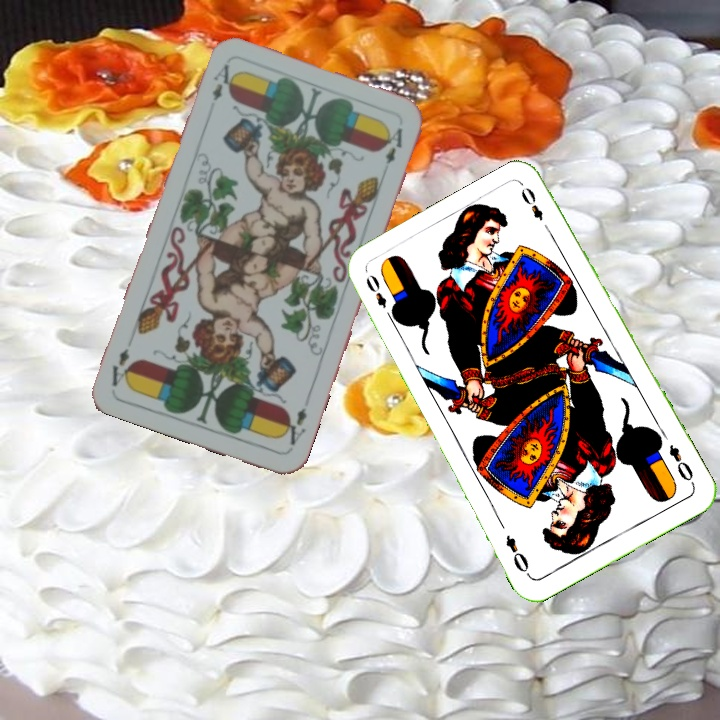EA: (277, 403, 310, 448), (208, 60, 238, 103)
EO: (664, 440, 698, 488), (361, 270, 389, 312)
